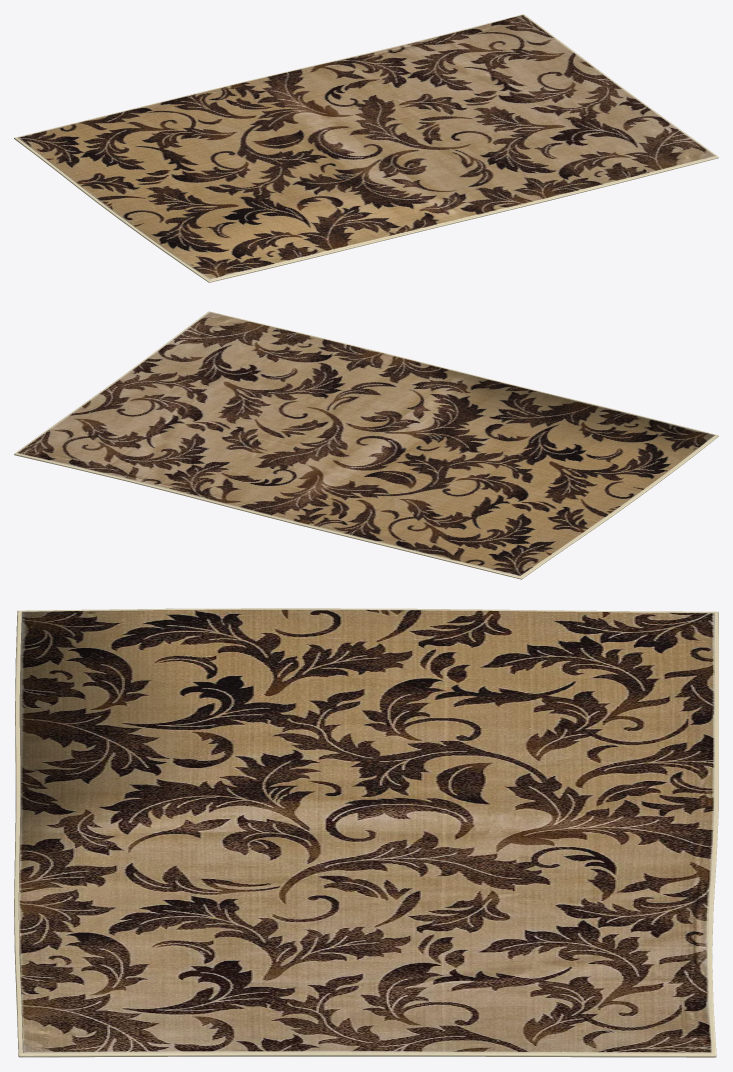
Rendered from B07NXTKB5C.glb.
3 views of the same model, one above another, from view 1: azimuth 30°, elevation 25°; view 2: azimuth 150°, elevation 25°; view 3: azimuth 270°, elevation 25° (orthographic). The views are drawn at different scales.
Parts seen in each view (by area): view 1: RootNode; view 2: RootNode; view 3: RootNode.
Part boxes in pixels (x1,y1,x2,y2): RootNode: (14, 14, 718, 282); RootNode: (14, 311, 718, 579); RootNode: (14, 608, 718, 1057).
Size of the model in its own units: 2.28 by 0.00836 by 1.52.
Materials: 1 (1 with a texture image).
